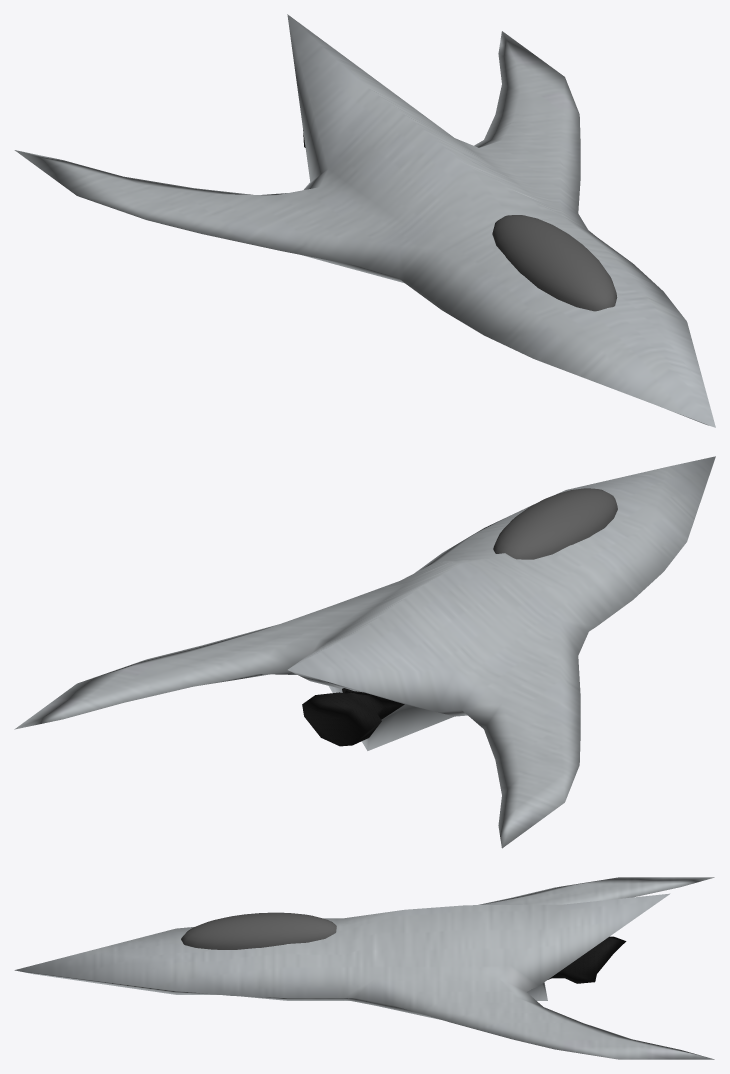
Rendered from SpaceShip.fbx.
3 views of the same model, one above another, from view 1: azimuth 30°, elevation 25°; view 2: azimuth 150°, elevation 25°; view 3: azimuth 270°, elevation 25° (orthographic). The views are drawn at different scales.
Parts seen in each view (by area): view 1: polySurface2; view 2: polySurface2; view 3: polySurface2.
Part boxes in pixels (box(x1,y1,x2,y2)): polySurface2: box(14, 14, 715, 427); polySurface2: box(14, 456, 715, 848); polySurface2: box(14, 877, 714, 1059).
Bounding box in the file's own units: 7.72 × 2.12 × 12.56.
